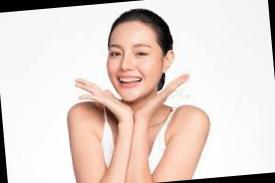Sober: (111, 27, 160, 101)
